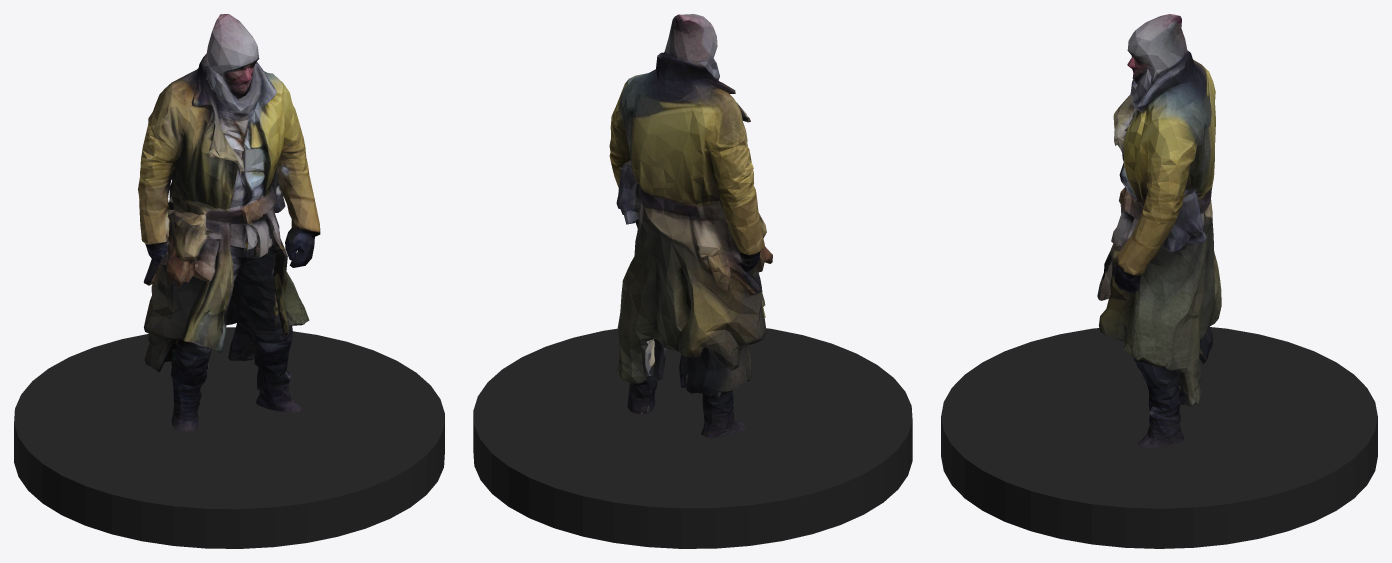
File: harman-brooks.glb
3 renders of one model, left to right at view 1: azimuth 30°, elevation 25°; view 2: azimuth 150°, elevation 25°; view 3: azimuth 270°, elevation 25°, orthographic.
Parts seen in each view (by area): view 1: base, figure; view 2: base, figure; view 3: base, figure.
Boxes of the visible parts, x1,y1,x2,y2 form: base: [14, 327, 444, 548]; figure: [138, 14, 320, 432]; base: [473, 328, 912, 548]; figure: [609, 14, 772, 438]; base: [941, 327, 1377, 548]; figure: [1097, 14, 1221, 448].
Size of the model in its own units: 1.18 by 1.32 by 1.18.
Materials: 2 (1 with a texture image).
